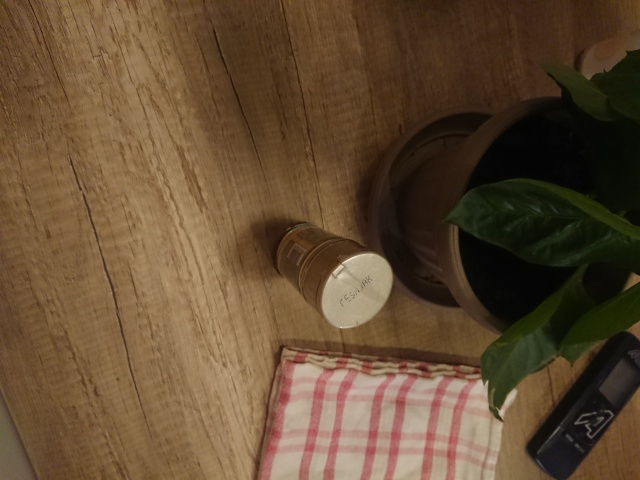Kotanyi Garlic Granules 70g: (272, 220, 395, 331)
